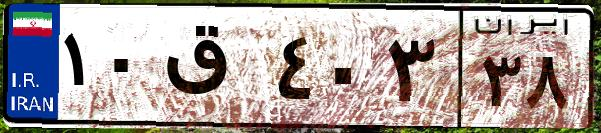0: (330, 28, 385, 110), (110, 28, 158, 98)
1: (57, 26, 110, 100)
3: (385, 28, 445, 110), (475, 38, 525, 113)
4: (270, 28, 330, 110)
8: (525, 38, 570, 115)
ق: (158, 20, 270, 120)
